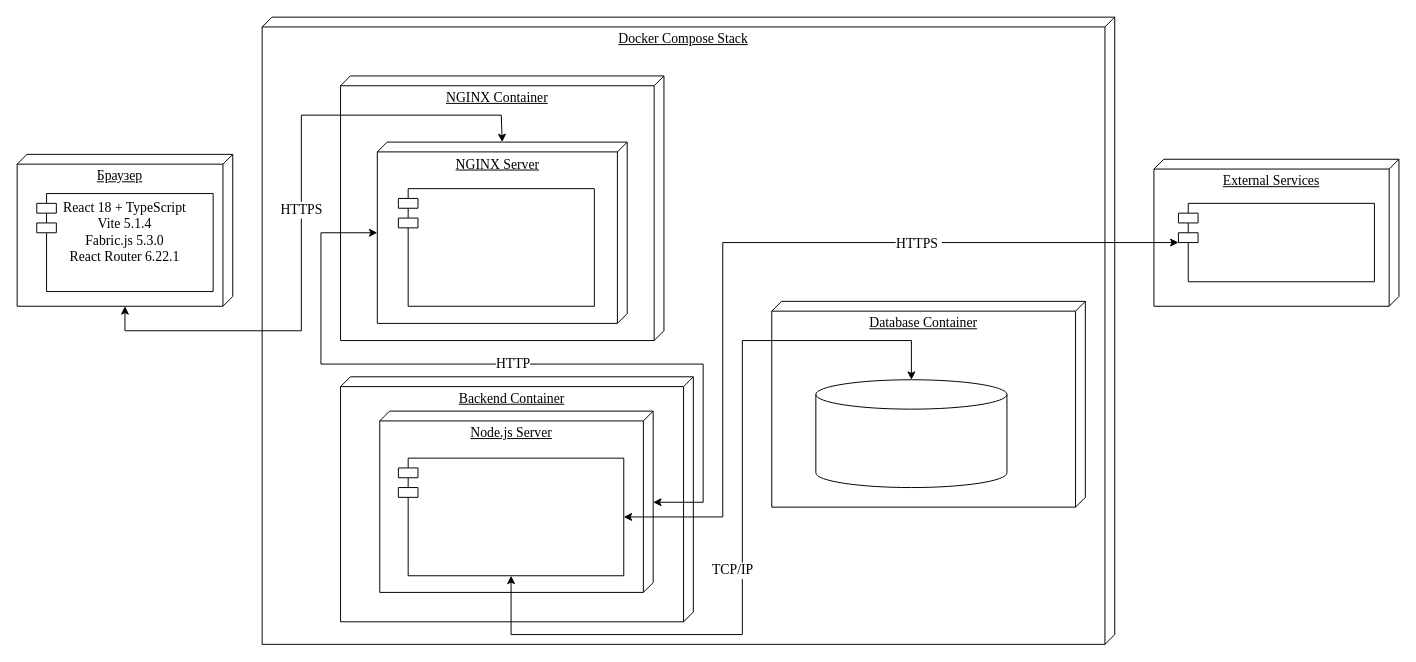
Some shapes in this 1416 by 662 pixel diagram are drawn without their labels. The shapes that lost their labels are listed below. From the top down, each one's centre as x and y in pixels, then its label:
At point 495,247: "Reverse Proxy HTTPS → HTTP SSL/TLS Termination Static Files Load Balancing".
At point 1275,242: "Unsplash API".
At point 911,433: "PostgreSQL 15 Prisma ORM".
At point 510,516: "Express 4.18.2 TypeScript 5.3.3 Prisma 5.10.2 JWT Authentication REST API".
